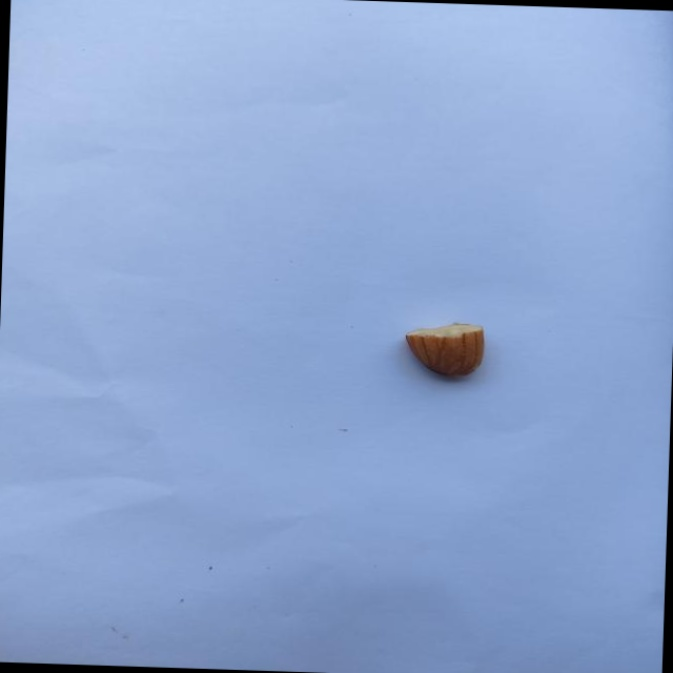grade4: (395, 317, 493, 386)
